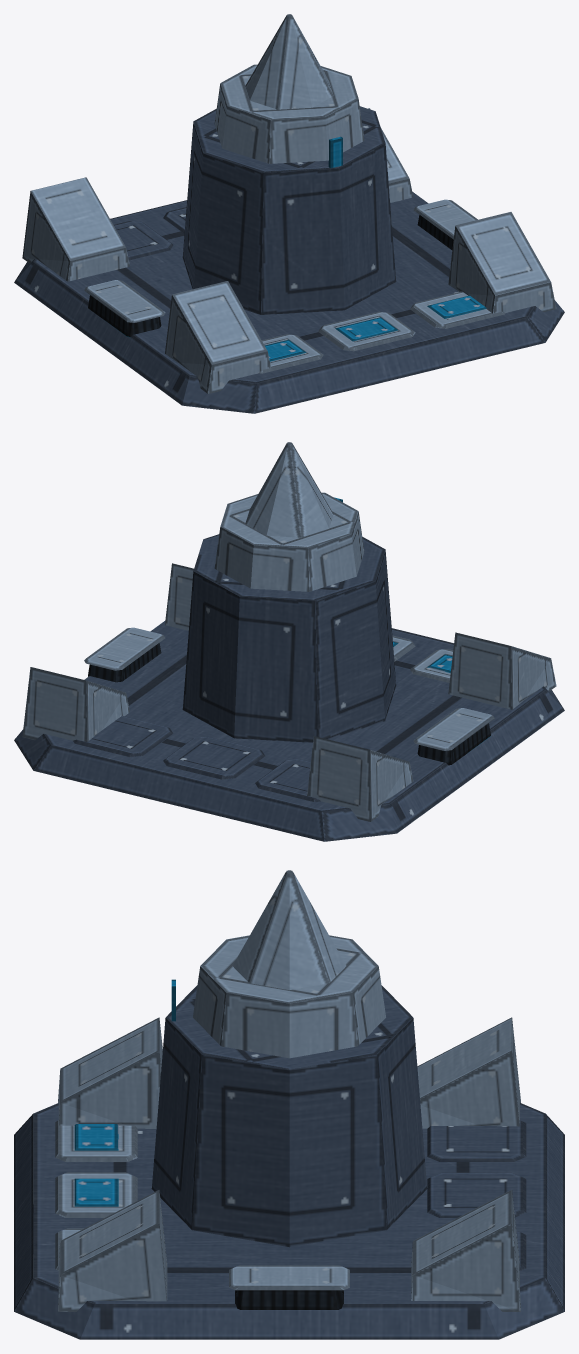
Rendered from building-silo.fbx.
3 renders of one model, top to bottom at view 1: azimuth 30°, elevation 25°; view 2: azimuth 150°, elevation 25°; view 3: azimuth 270°, elevation 25°, orthographic. The views are drawn at different scales.
Visible parts, largest first — view 1: building-silo; view 2: building-silo; view 3: building-silo.
Boxes of the visible parts, x1,y1,x2,y2 form: building-silo: [14, 14, 564, 413]; building-silo: [14, 442, 564, 841]; building-silo: [14, 870, 564, 1339].
Bounding box in the file's own units: 2912 × 2050 × 2912.
1 material, 1 textured.
